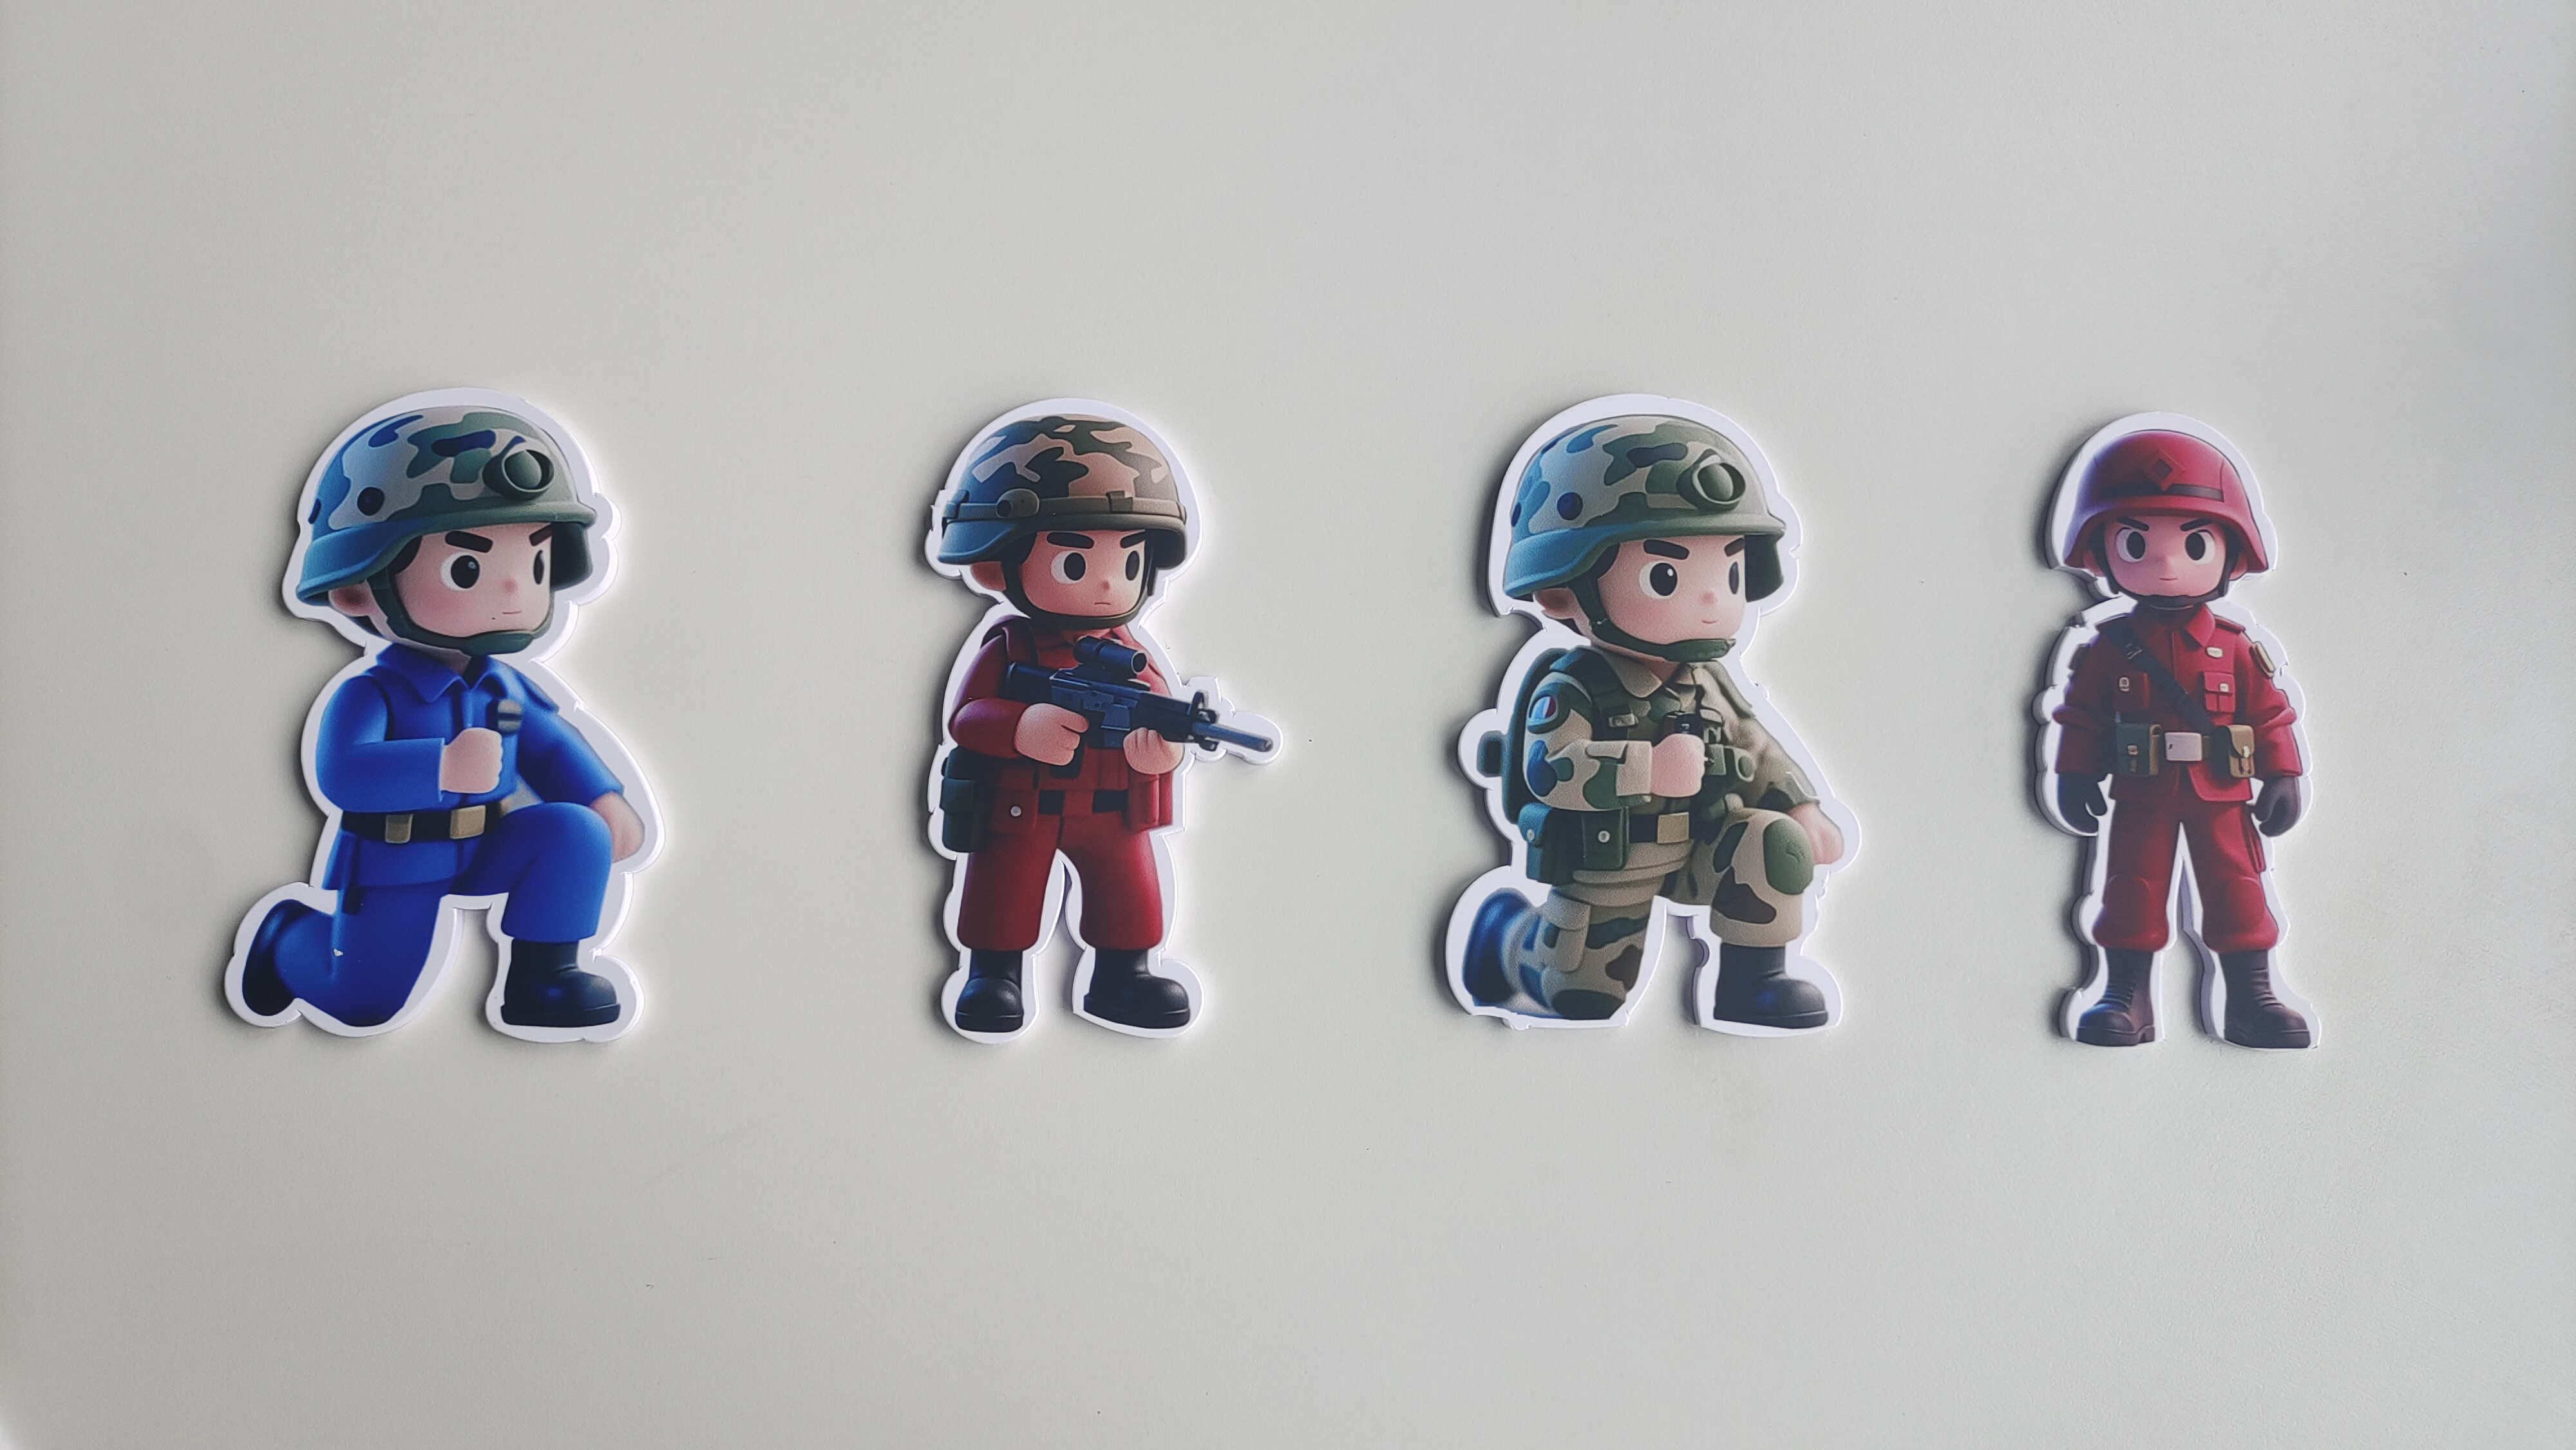enemy1: (901, 612, 1224, 1065), (2026, 605, 2346, 1057)
enemy2: (203, 670, 686, 1057)
friend: (1419, 631, 1867, 1045)
